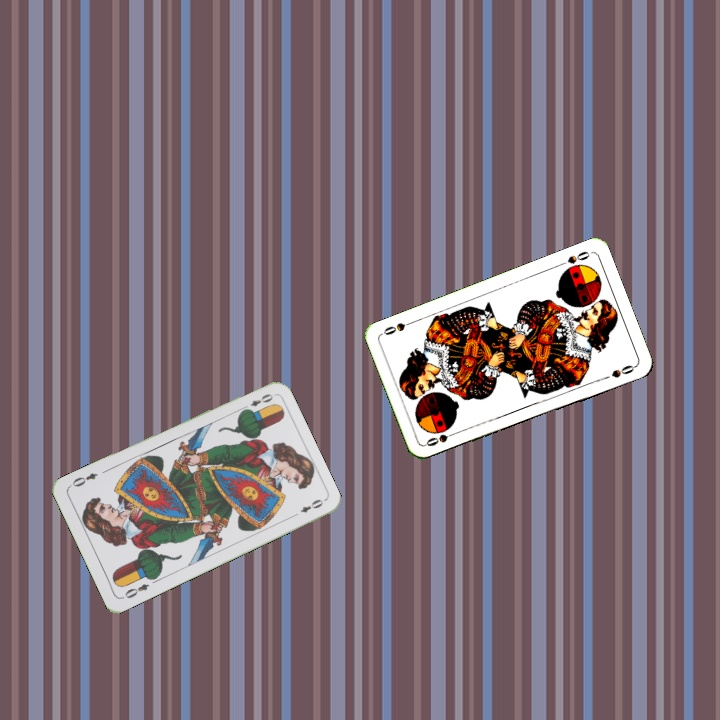EO: (237, 389, 276, 414), (120, 579, 152, 601)
SO: (554, 247, 593, 269), (422, 428, 461, 449)
